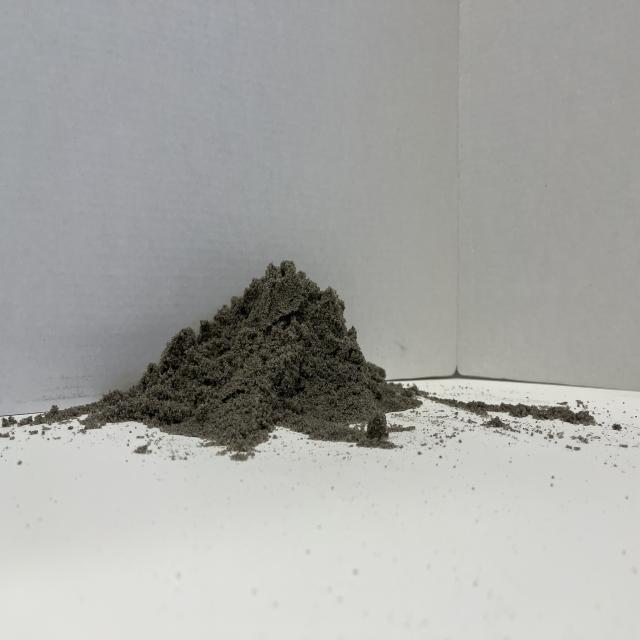sand: (68, 245, 440, 460)
